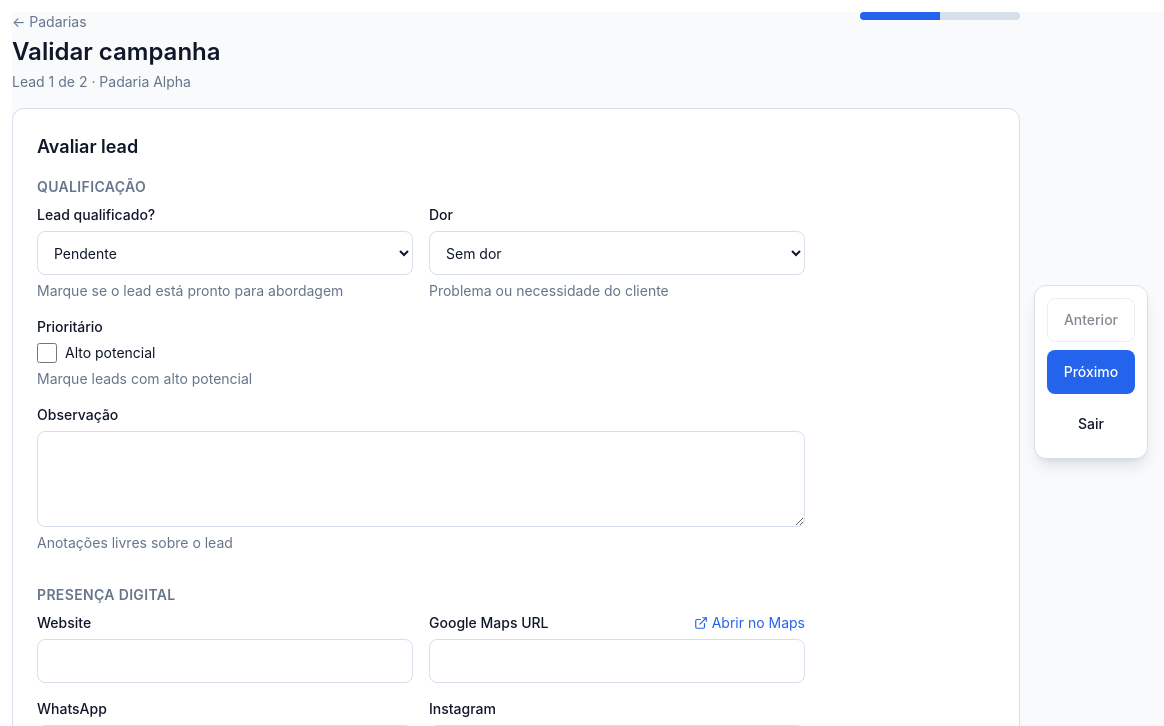
Test: CampaignValidatePage › goes back to the previous lead without saving
This screenshot has width=1164, height=726.
Expected: the text "Lead 1 de 2 · Padaria Alpha" is shown, [12,72,220,92]
Click the button "Próximo" at (1091, 372), box [1047,350,1135,394]
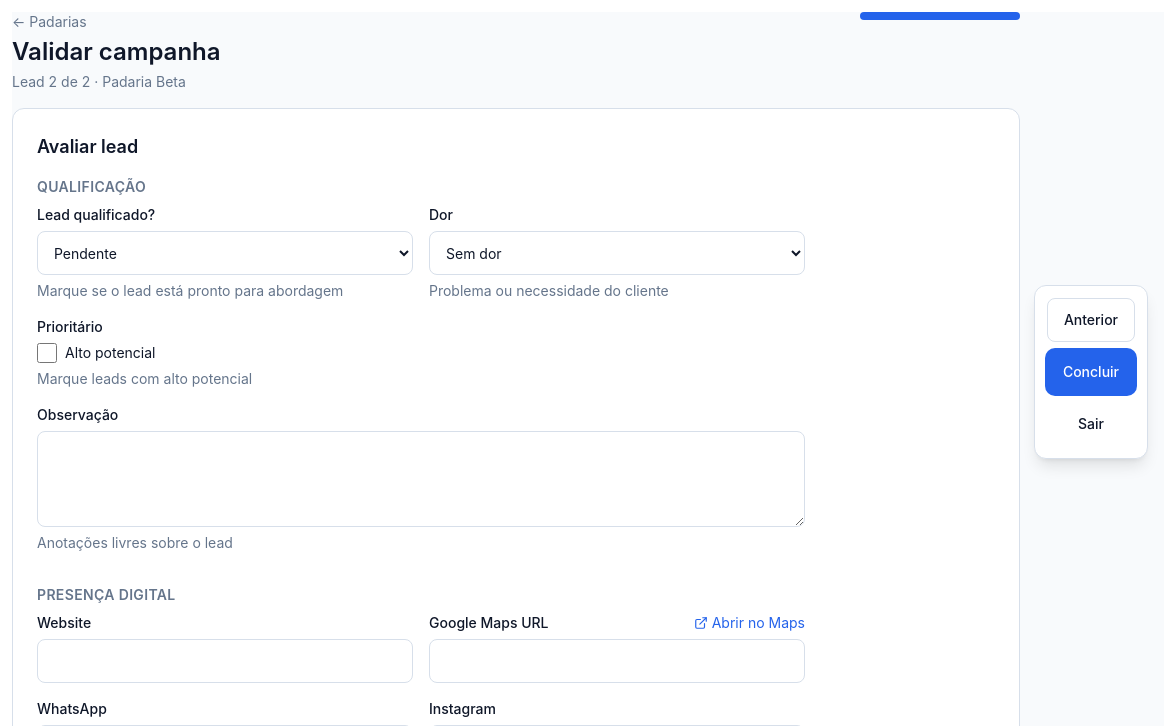
Now the text "Lead 2 de 2 · Padaria Beta" is shown, box [12,73,186,90]
Click the button "Anterior" at (1091, 320), box [1047,298,1135,342]
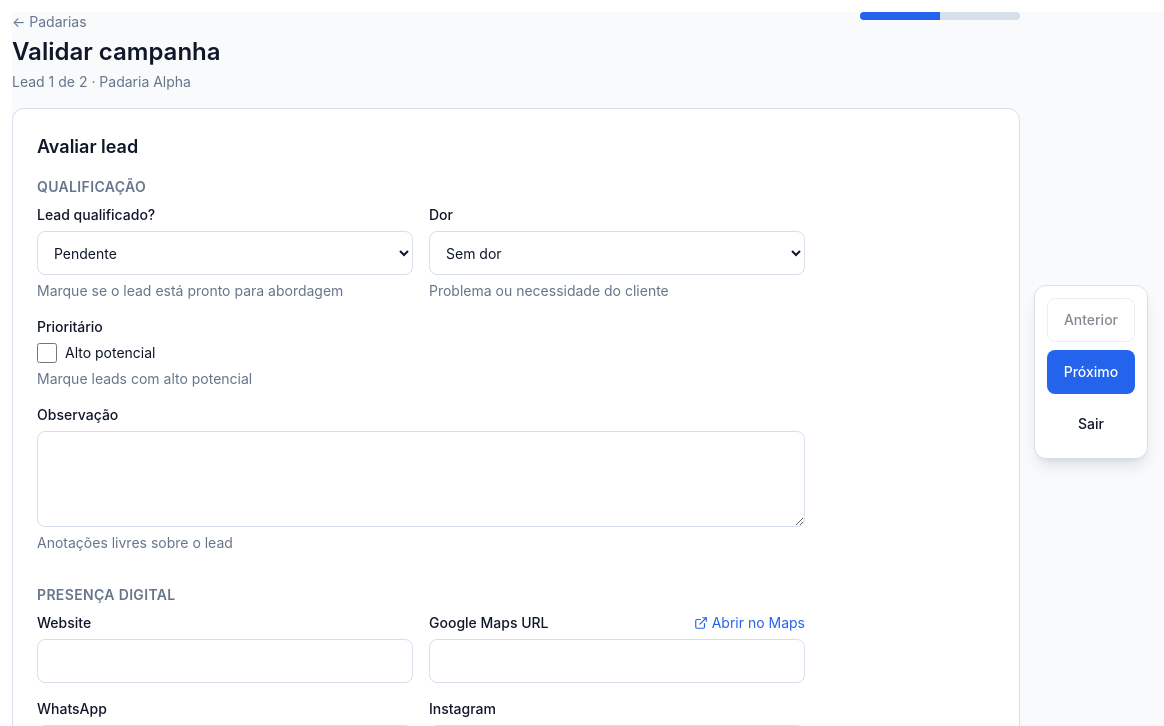
Now the text "Lead 1 de 2 · Padaria Alpha" is shown, box [12,72,220,92]
